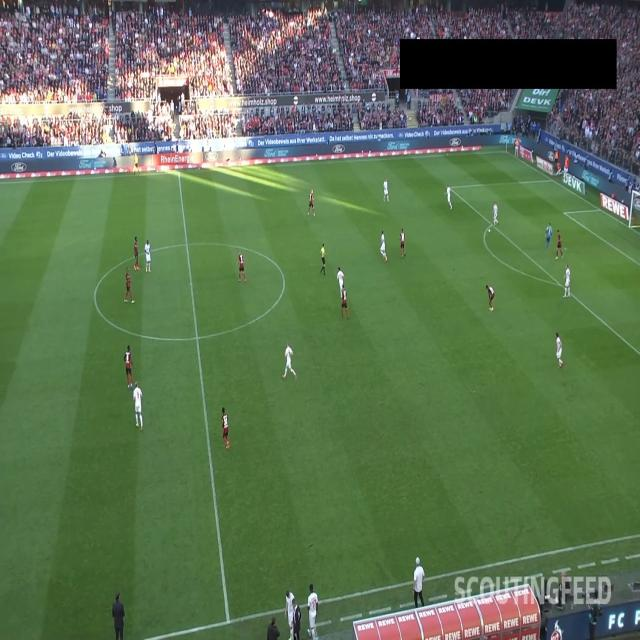ball: (488, 228, 491, 233)
